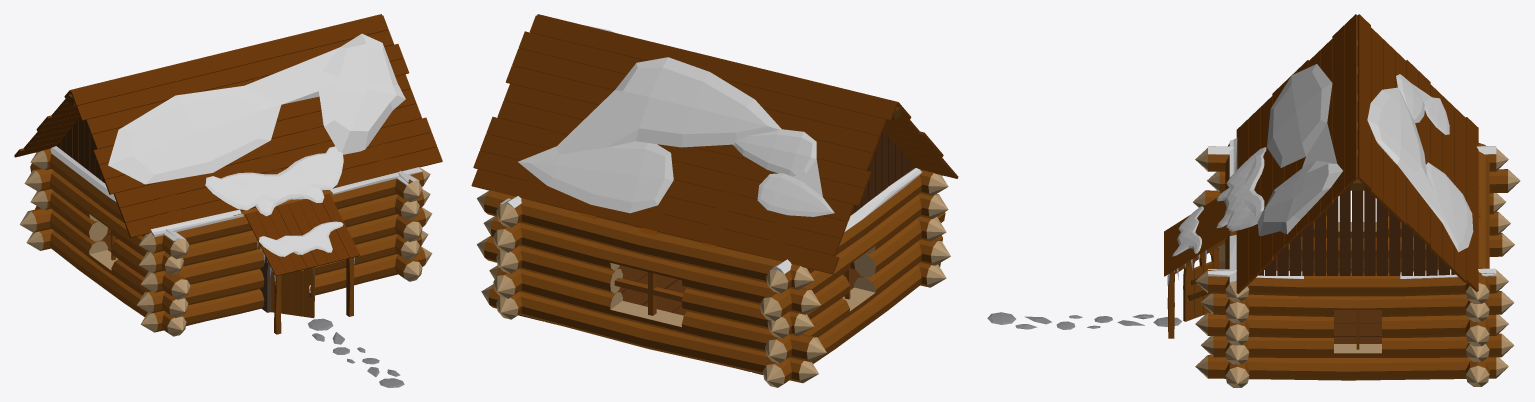
File: House_06.fbx
3 views of the same model, side by side, from view 1: azimuth 30°, elevation 25°; view 2: azimuth 150°, elevation 25°; view 3: azimuth 270°, elevation 25° (orthographic). The views are drawn at different scales.
Visible parts, largest first — view 1: House_06_Roof, House_06, House_06_Snow, House_06_Door, House_06_Roof_Detail_02, House_06_Stones, House_06_Detail_01, House_06_Door_Detail_05; view 2: House_06, House_06_Roof, House_06_Snow, House_06_Roof_Detail_02, House_06_Floor; view 3: House_06, House_06_Roof, House_06_Snow, House_06_Roof_Detail_02, House_06_Floor, House_06_Door, House_06_Stones, House_06_Detail_01.
Part boxes in pixels (<box>): House_06_Roof: <box>14,14,442,276</box>; House_06: <box>20,149,432,336</box>; House_06_Snow: <box>50,33,422,256</box>; House_06_Door: <box>271,267,314,318</box>; House_06_Roof_Detail_02: <box>56,118,104,182</box>; House_06_Stones: <box>307,318,404,387</box>; House_06_Detail_01: <box>274,257,353,334</box>; House_06_Door_Detail_05: <box>260,256,314,312</box>; House_06: <box>477,170,950,387</box>; House_06_Roof: <box>471,14,958,274</box>; House_06_Snow: <box>500,25,922,273</box>; House_06_Roof_Detail_02: <box>519,130,914,245</box>; House_06_Floor: <box>518,227,860,374</box>; House_06: <box>1193,143,1520,387</box>; House_06_Roof: <box>1164,14,1478,294</box>; House_06_Snow: <box>1172,64,1496,282</box>; House_06_Roof_Detail_02: <box>1258,185,1455,275</box>; House_06_Floor: <box>1264,257,1438,343</box>; House_06_Door: <box>1183,248,1218,321</box>; House_06_Stones: <box>987,312,1181,329</box>; House_06_Detail_01: <box>1167,237,1227,338</box>.
Bounding box in the file's own units: 582 × 373 × 794.
